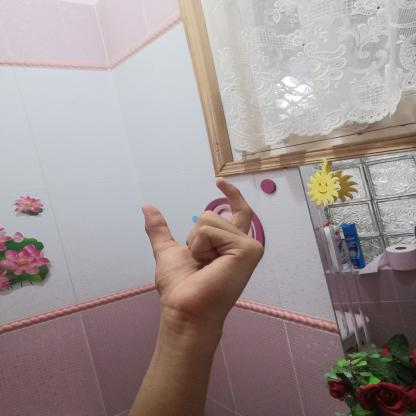NOON: (124, 168, 278, 333)
